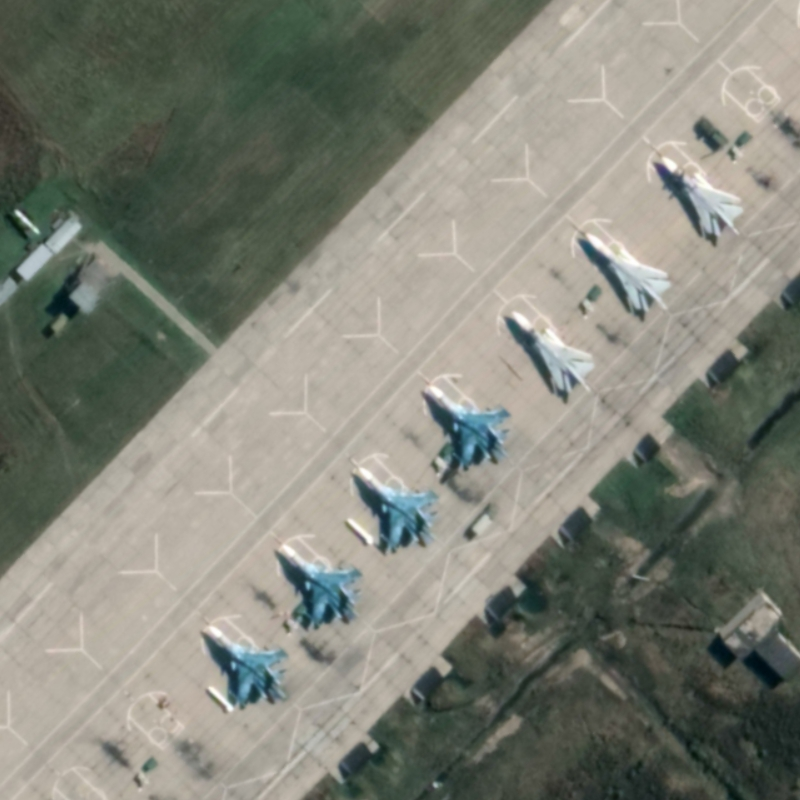A19: (425, 383, 515, 471), (279, 541, 367, 630), (356, 464, 443, 552), (205, 623, 292, 709)
A20: (582, 230, 674, 315), (658, 153, 746, 239), (509, 309, 596, 394)
